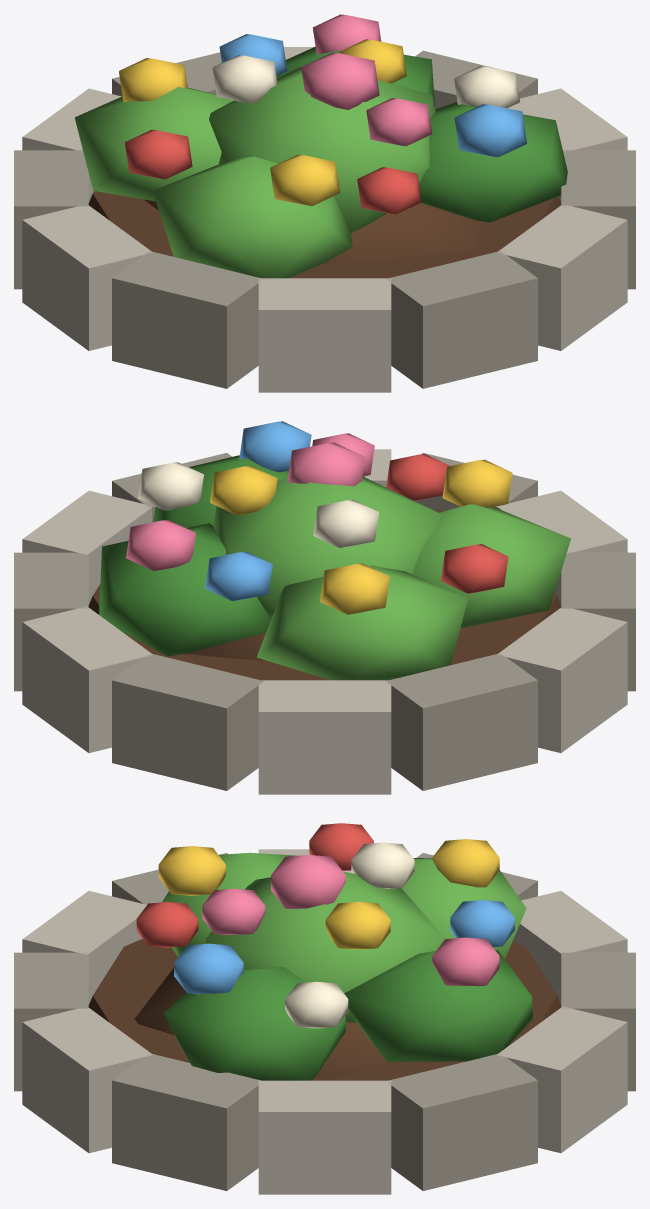
Rendered from flowerbed.glb.
3 views of the same model, one above another, from view 1: azimuth 30°, elevation 25°; view 2: azimuth 150°, elevation 25°; view 3: azimuth 270°, elevation 25° (orthographic).
Parts seen in each view (by area): view 1: Part_StoneMid, Part_StoneLight, Part_BushTop, Part_Soil, Part_BushMid, Part_FlowerPink, Part_FlowerYellow, Part_FlowerRed, Part_FlowerCream, Part_FlowerBlue; view 2: Part_StoneLight, Part_StoneMid, Part_BushTop, Part_BushMid, Part_FlowerYellow, Part_FlowerPink, Part_Soil, Part_FlowerBlue, Part_FlowerCream, Part_FlowerRed; view 3: Part_StoneLight, Part_StoneMid, Part_BushMid, Part_BushTop, Part_Soil, Part_FlowerPink, Part_FlowerYellow, Part_FlowerBlue, Part_FlowerCream, Part_FlowerRed.
Part boxes in pixels (x1,y1,x2,y2): Part_StoneMid: (14, 50, 635, 388); Part_StoneLight: (22, 47, 627, 392); Part_BushTop: (74, 67, 435, 278); Part_Soil: (88, 108, 561, 278); Part_BushMid: (276, 46, 567, 222); Part_FlowerPink: (301, 14, 432, 146); Part_FlowerYellow: (119, 39, 406, 205); Part_FlowerRed: (125, 129, 421, 214); Part_FlowerCream: (212, 55, 519, 108); Part_FlowerBlue: (219, 34, 526, 157); Part_StoneLight: (22, 449, 627, 794); Part_StoneMid: (14, 453, 635, 790); Part_BushTop: (213, 476, 570, 680); Part_BushMid: (99, 455, 288, 656); Part_FlowerYellow: (210, 459, 512, 614); Part_FlowerPink: (126, 433, 374, 571); Part_Soil: (88, 509, 561, 680); Part_FlowerBlue: (205, 421, 311, 600); Part_FlowerCream: (138, 462, 379, 547); Part_FlowerRed: (386, 454, 508, 593); Part_StoneLight: (22, 849, 627, 1194); Part_StoneMid: (14, 853, 635, 1190); Part_BushMid: (163, 950, 532, 1080); Part_BushTop: (162, 852, 526, 1022); Part_Soil: (88, 939, 561, 1080); Part_FlowerPink: (202, 855, 499, 986); Part_FlowerYellow: (158, 839, 499, 949); Part_FlowerBlue: (174, 900, 514, 994); Part_FlowerCream: (285, 842, 414, 1028); Part_FlowerRed: (136, 823, 373, 947).
Bounding box in the file's own units: 1.5 × 0.5953 × 1.5.
